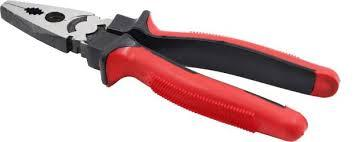pliers: (0, 0, 340, 141)
